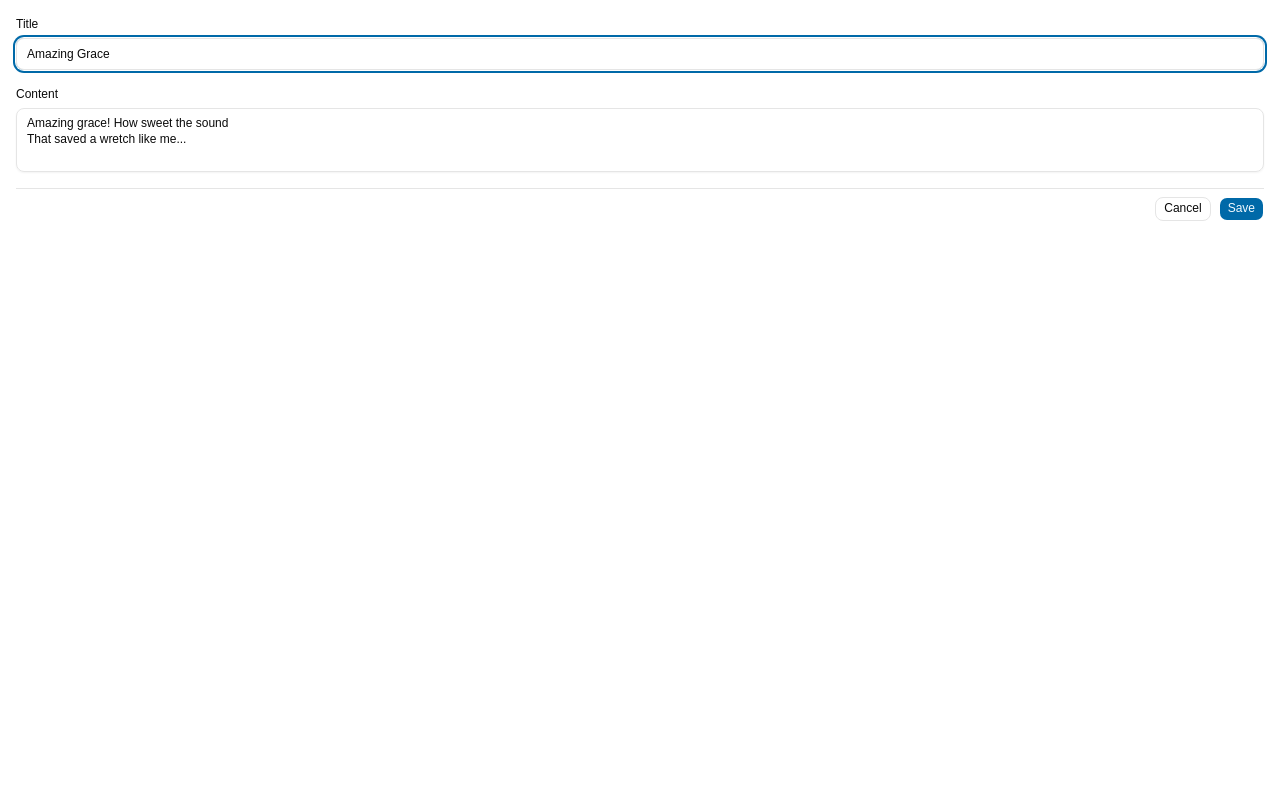
Test: PlaylistItemEditor › displays AlertDialog confirmation when draft is dirty on clicking Cancel
Type " modified" into the field labelled "Title".
click(640, 54); type(" modified")  # box [16,38,1264,70]
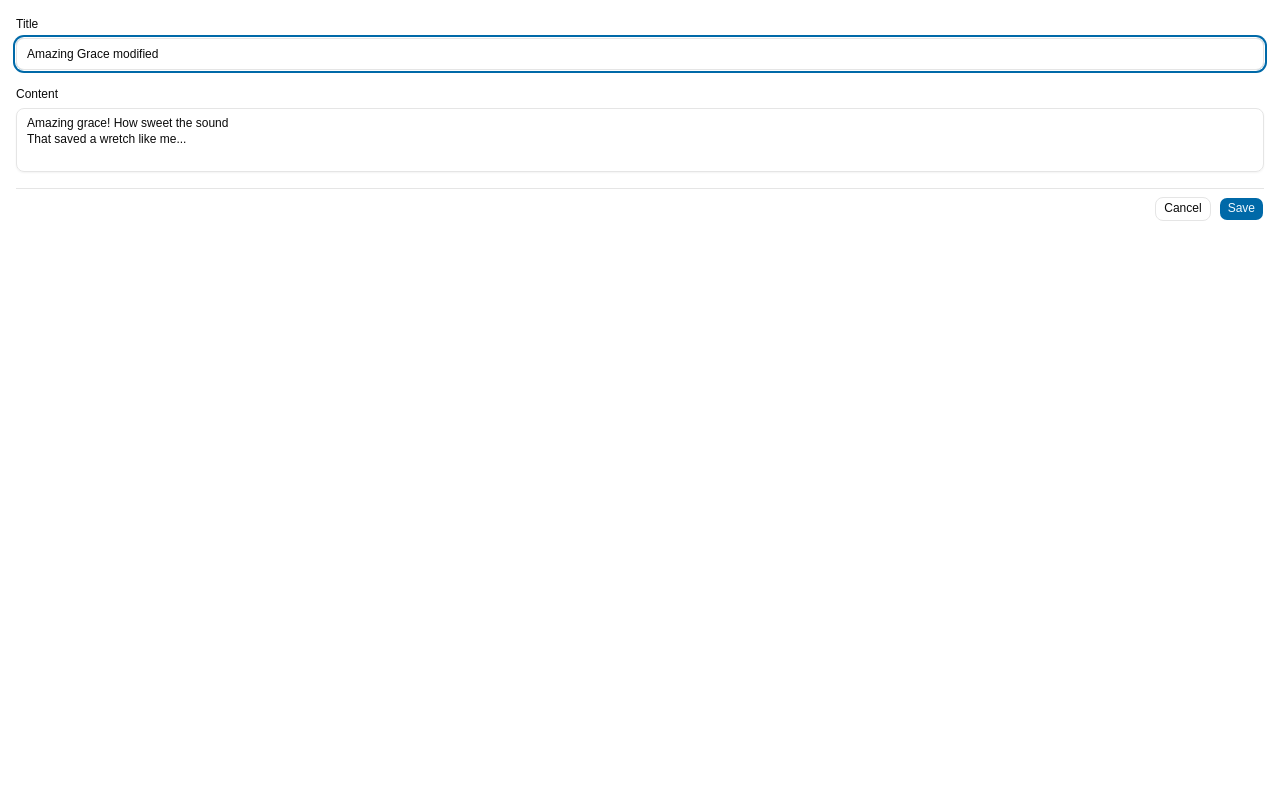
Click the button "Cancel".
click(1183, 209)  # box [1155,197,1211,221]
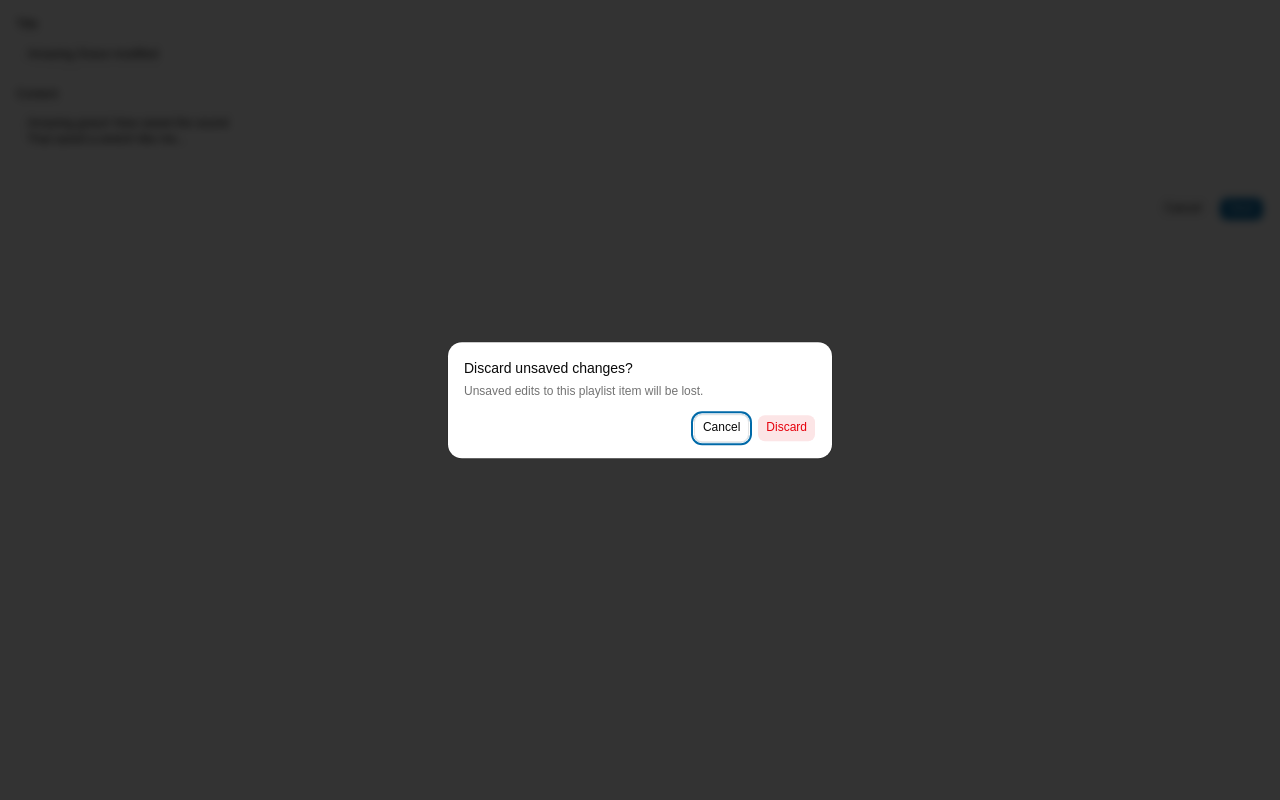
Result: the dialog is shown at [448,342,832,458]
Result: the heading "Discard unsaved changes?" is shown at [464,358,633,378]
Result: the text "Unsaved edits to this playlist item will be lost." is shown at [464,382,703,402]
